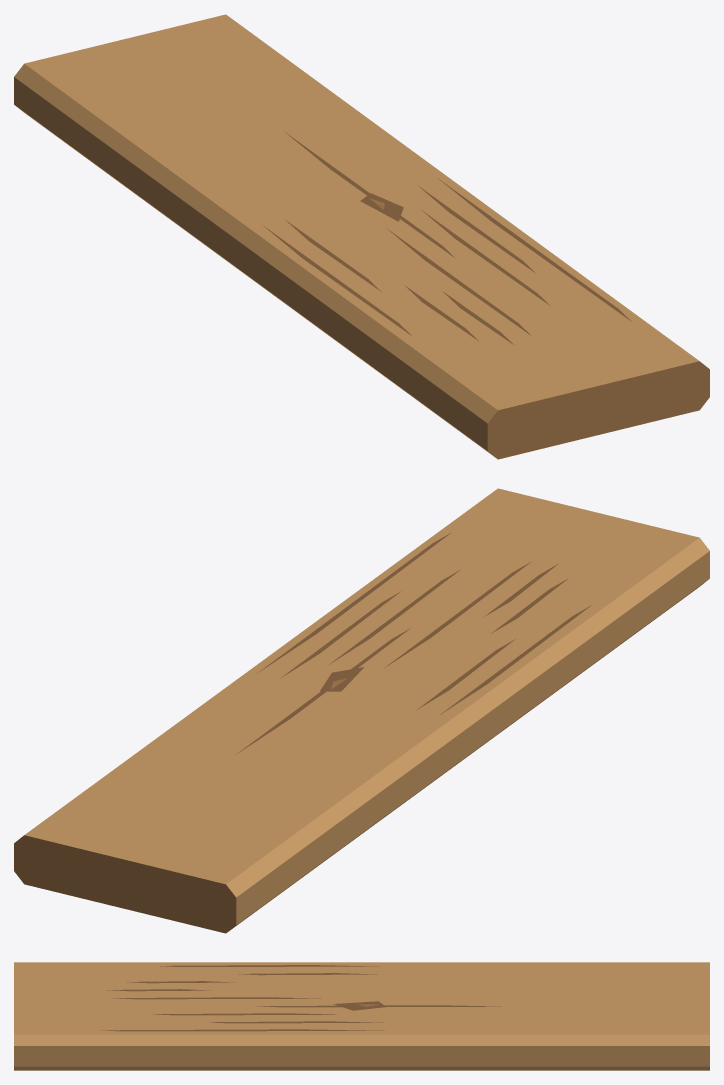
The model's file is Plank_Pine.glb.
The picture shows the model from 3 angles, top to bottom: view 1: azimuth 30°, elevation 25°; view 2: azimuth 150°, elevation 25°; view 3: azimuth 270°, elevation 25°; orthographic projection. The views are drawn at different scales.
Visible parts, largest first — view 1: Plank_Pine; view 2: Plank_Pine; view 3: Plank_Pine.
Part boxes in pixels (box(x1,y1,x2,y2)): Plank_Pine: box(14, 14, 709, 459); Plank_Pine: box(14, 488, 709, 933); Plank_Pine: box(14, 962, 709, 1070).
Size of the model in its own units: 0.26 by 0.056 by 0.96.
